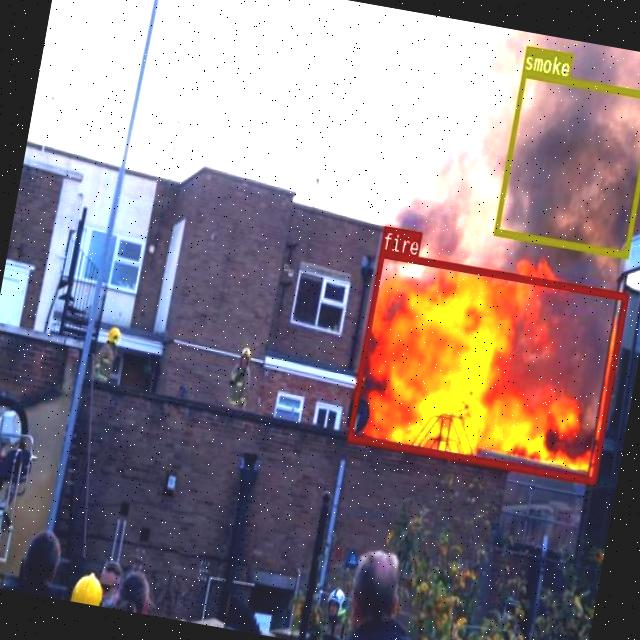fire: (346, 248, 628, 483)
smoke: (492, 69, 640, 256)
